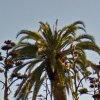Palm tree: (18, 12, 92, 99)
